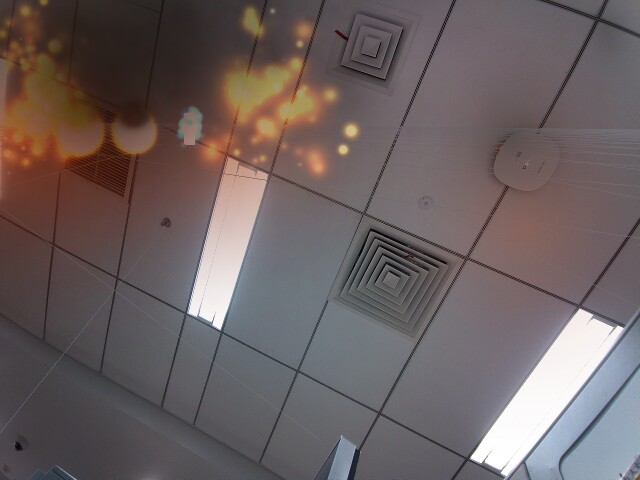fire: (122, 116, 145, 144)
firebig: (65, 115, 91, 146)
